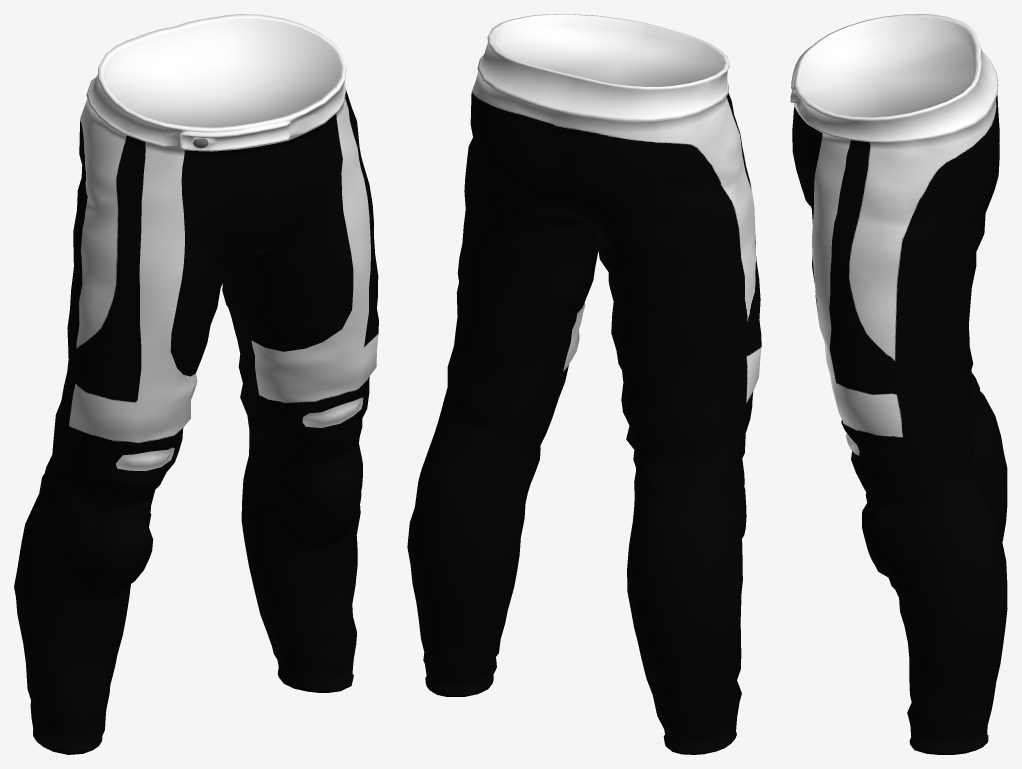
Rendered from SurvivorMale_Legs_Pants_Moto_LOD0.glb.
The picture shows the model from 3 angles, left to right: view 1: azimuth 30°, elevation 25°; view 2: azimuth 150°, elevation 25°; view 3: azimuth 270°, elevation 25°; orthographic projection. The views are drawn at different scales.
Visible parts, largest first — view 1: Hoodie; view 2: Hoodie; view 3: Hoodie.
Part boxes in pixels (x1,y1,x2,y2): Hoodie: (14,14,378,754); Hoodie: (407,14,761,754); Hoodie: (790,14,1007,754).
Bounding box in the file's own units: 0.4722 × 0.9237 × 0.2879.
1 material, 1 textured.
